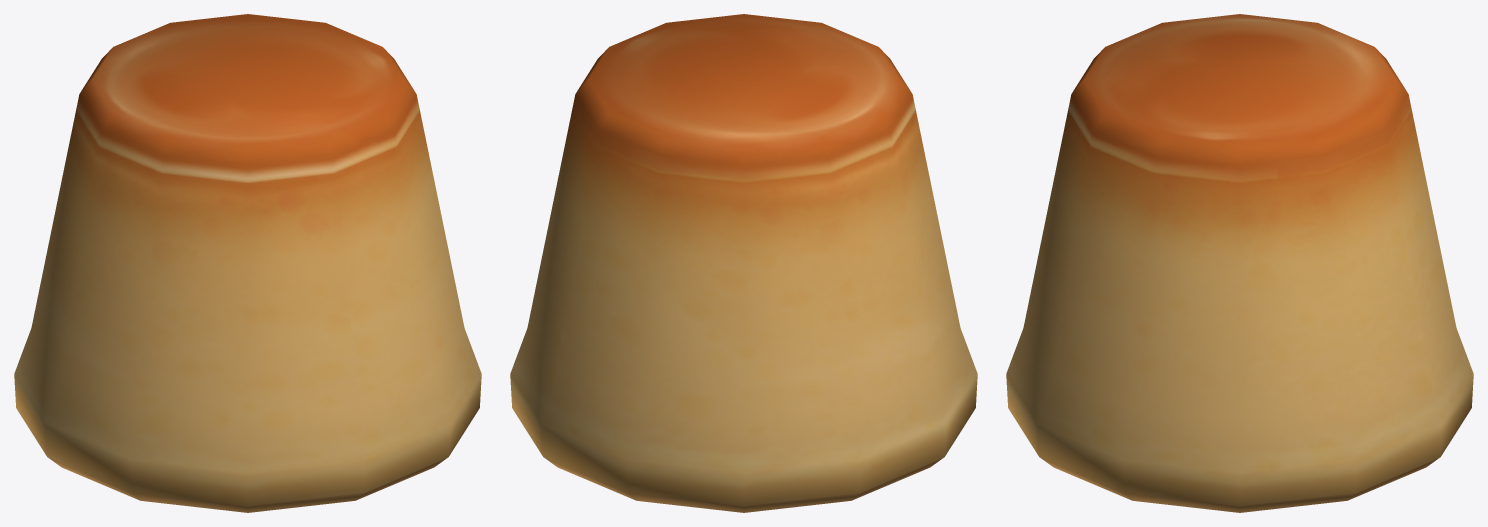
File: Pudding_1.FBX
The picture shows the model from 3 angles, left to right: view 1: azimuth 30°, elevation 25°; view 2: azimuth 150°, elevation 25°; view 3: azimuth 270°, elevation 25°; orthographic projection.
Parts seen in each view (by area): view 1: Pudding_1; view 2: Pudding_1; view 3: Pudding_1.
Part boxes in pixels (left/top/right/bottom): Pudding_1: left=14, top=14, right=481, bottom=512; Pudding_1: left=510, top=14, right=977, bottom=512; Pudding_1: left=1006, top=14, right=1473, bottom=512.
Size of the model in its own units: 20.49 by 16.56 by 20.49.
